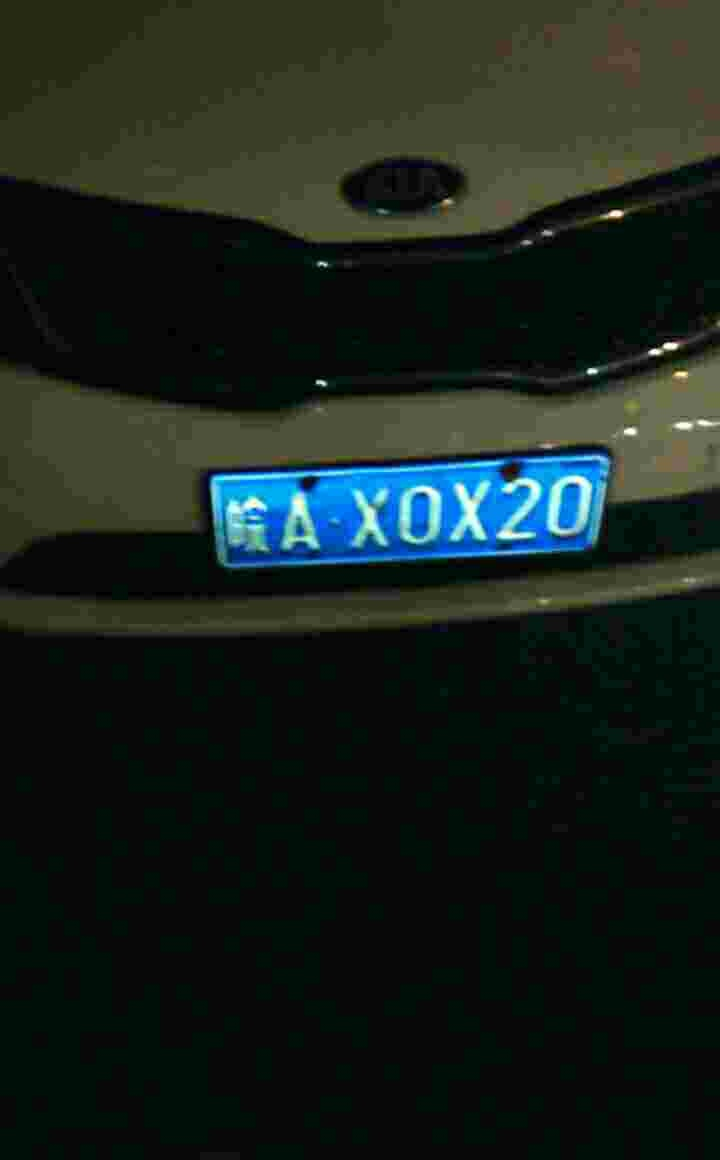license_plate: (222, 449, 600, 577)
